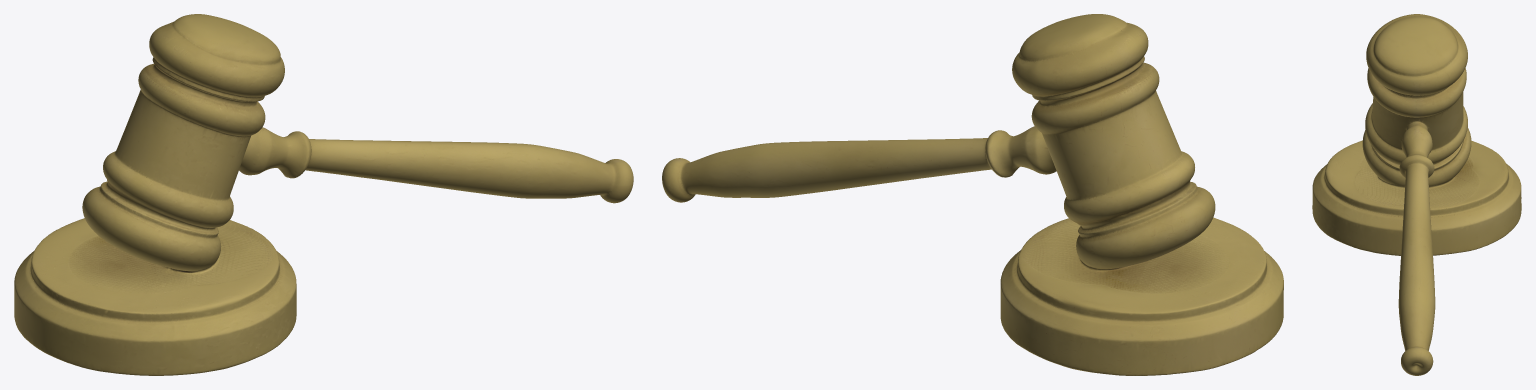
The model's file is accessories_set_6_item_10.glb.
3 views of the same model, side by side, from view 1: azimuth 30°, elevation 25°; view 2: azimuth 150°, elevation 25°; view 3: azimuth 270°, elevation 25° (orthographic). The views are drawn at different scales.
Size of the model in its own units: 1.9 by 0.8664 by 0.78.
1 material, 1 textured.
